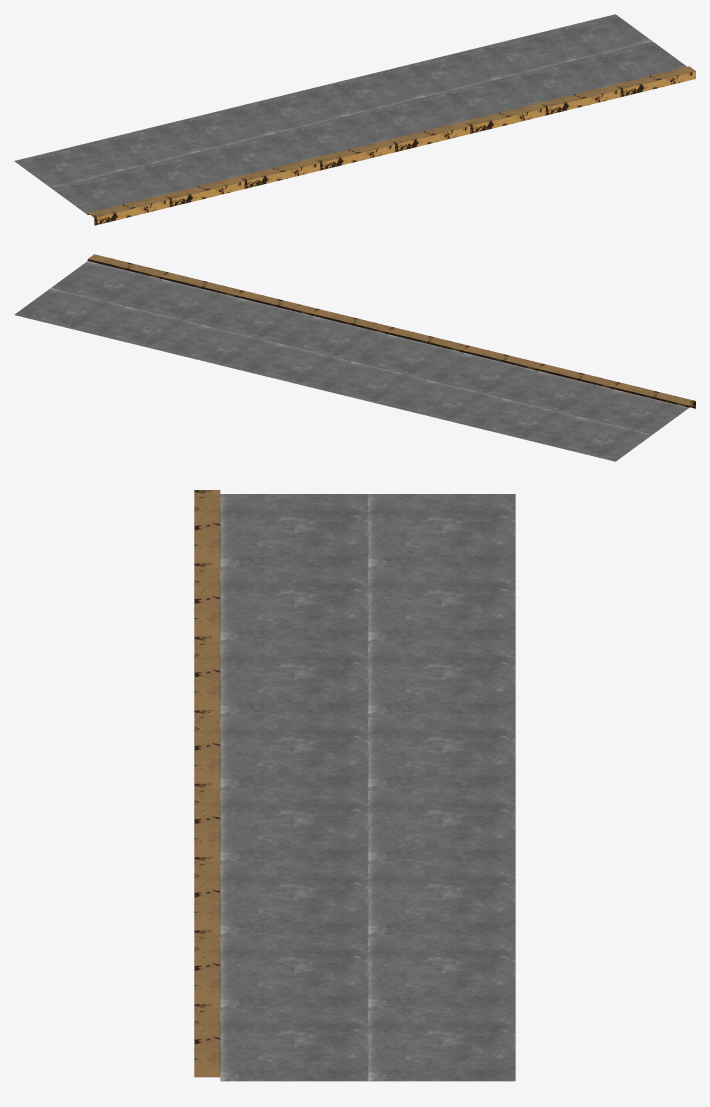
The model's file is Pavement Long 2.fbx.
3 renders of one model, top to bottom at view 1: azimuth 30°, elevation 25°; view 2: azimuth 150°, elevation 25°; view 3: azimuth 270°, elevation 25°, orthographic. The views are drawn at different scales.
Visible parts, largest first — view 1: Pavement Long 2; view 2: Pavement Long 2; view 3: Pavement Long 2.
Part boxes in pixels (box(x1,y1,x2,y2)): Pavement Long 2: box(14, 14, 695, 225); Pavement Long 2: box(14, 254, 695, 461); Pavement Long 2: box(194, 490, 515, 1081).
Size of the model in its own units: 1600 by 20 by 370.
